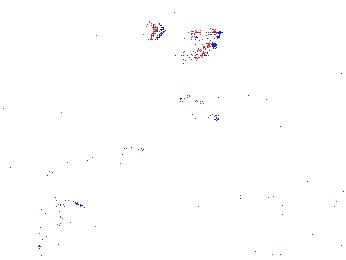glassfish: (33, 142, 145, 189)
red belly glassfish: (167, 107, 221, 128), (177, 87, 229, 107), (172, 48, 208, 62), (185, 40, 218, 53)
redtail glassfish: (148, 15, 223, 46)
